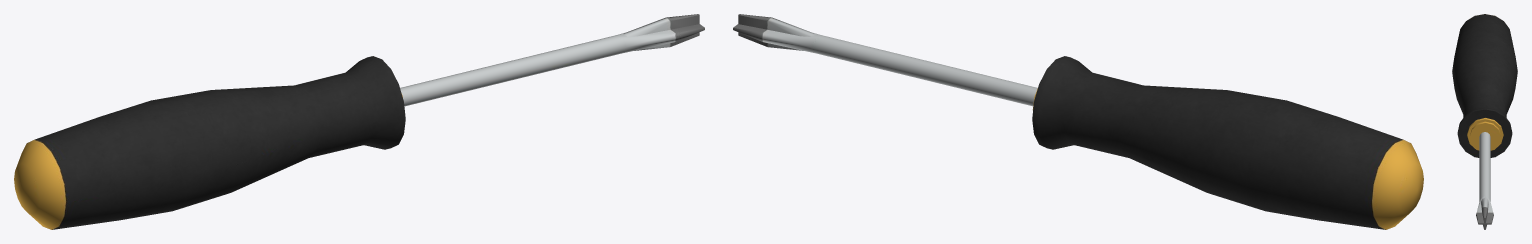
The model's file is tool_turn_screw_06.glb.
3 views of the same model, side by side, from view 1: azimuth 30°, elevation 25°; view 2: azimuth 150°, elevation 25°; view 3: azimuth 270°, elevation 25° (orthographic). The views are drawn at different scales.
Parts seen in each view (by area): view 1: tool_turn_screw_06; view 2: tool_turn_screw_06; view 3: tool_turn_screw_06.
Boxes of the visible parts, <box> form: tool_turn_screw_06: <box>14,14,704,229</box>; tool_turn_screw_06: <box>733,14,1423,229</box>; tool_turn_screw_06: <box>1452,14,1517,229</box>.
Bounding box in the file's own units: 0.2475 × 0.0358 × 0.0358.
Materials: 1 (1 with a texture image).
